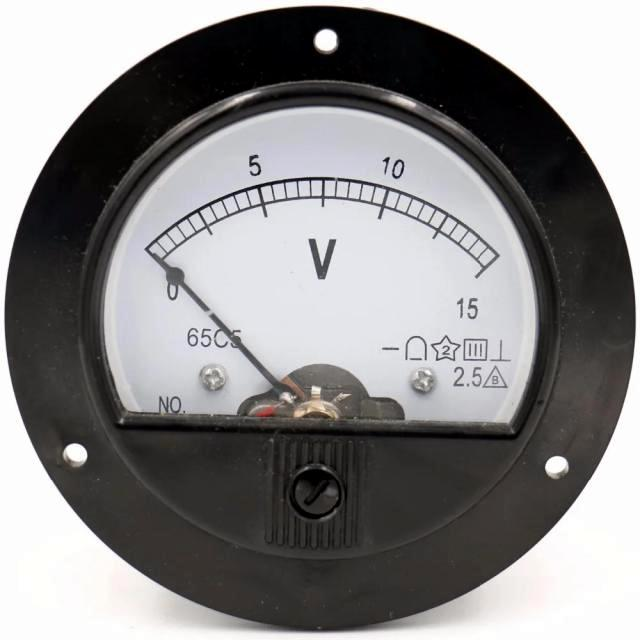Needle_Tip: (113, 239, 233, 313)
Needle_base: (205, 363, 430, 518)
max_value: (433, 268, 509, 347)
min_value: (145, 273, 205, 314)
